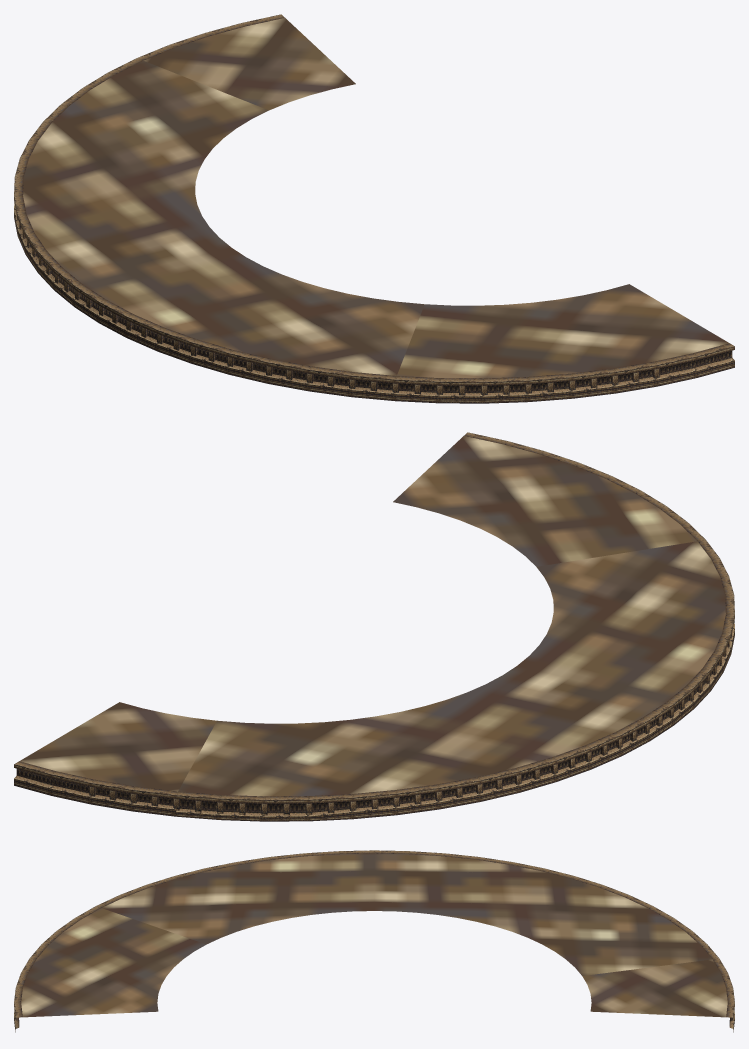
File: EnvBdgMD_Festival_A_Outdoor_Stage_A.FBX
The picture shows the model from 3 angles, top to bottom: view 1: azimuth 30°, elevation 25°; view 2: azimuth 150°, elevation 25°; view 3: azimuth 270°, elevation 25°; orthographic projection. The views are drawn at different scales.
Visible parts, largest first — view 1: EnvBdgMD_Festival_A_Outdoor_Stage_A; view 2: EnvBdgMD_Festival_A_Outdoor_Stage_A; view 3: EnvBdgMD_Festival_A_Outdoor_Stage_A.
Boxes of the visible parts, x1,y1,x2,y2 form: EnvBdgMD_Festival_A_Outdoor_Stage_A: [14, 14, 734, 403]; EnvBdgMD_Festival_A_Outdoor_Stage_A: [14, 432, 734, 821]; EnvBdgMD_Festival_A_Outdoor_Stage_A: [14, 850, 734, 1032].
Bounding box in the file's own units: 3182 × 150 × 5796.
